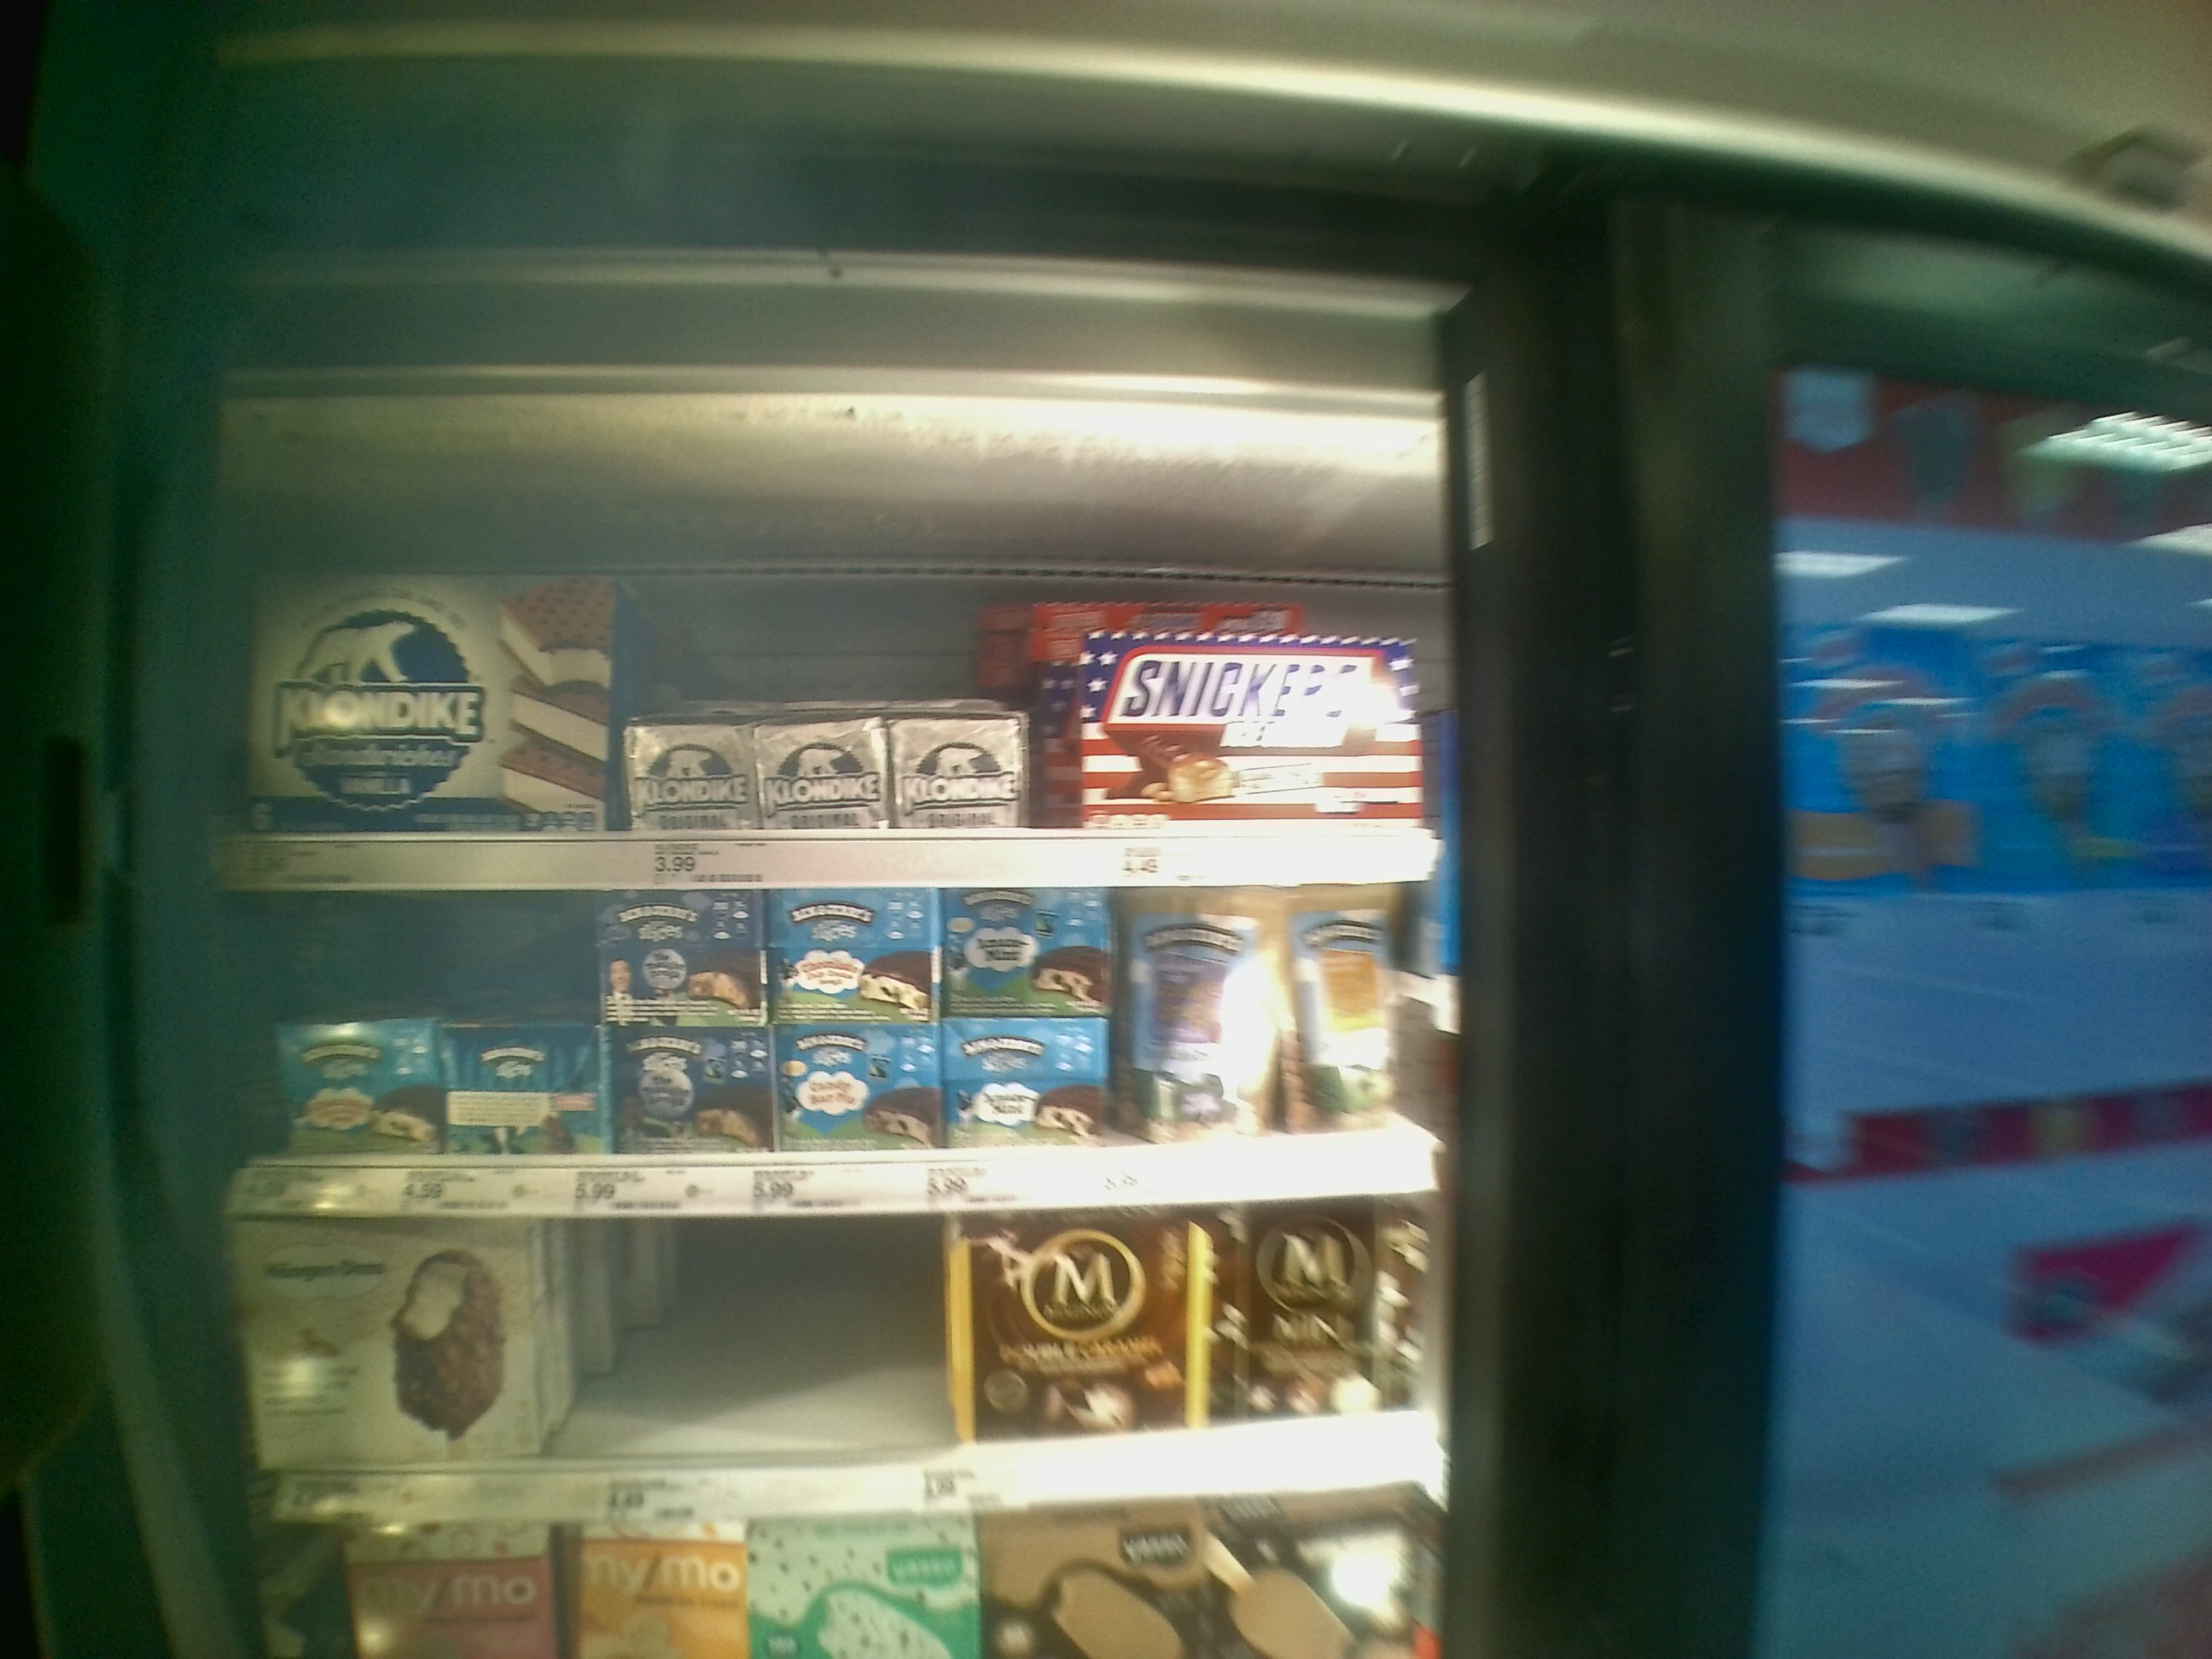ice-cream-shelf: (225, 481, 1468, 892), (228, 897, 1460, 1211), (221, 1211, 1456, 1497)
